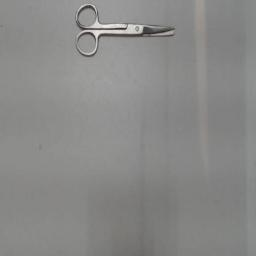Dressing Scissors: (69, 0, 179, 64)
